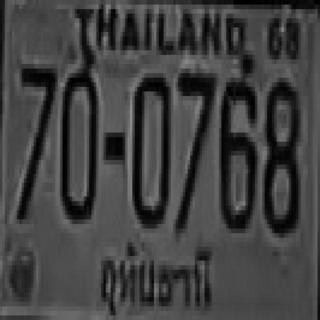N00: (130, 68, 168, 224), (60, 64, 96, 220)
N06: (219, 73, 255, 228)
N07: (173, 68, 214, 228), (17, 62, 55, 217)
N08: (262, 75, 298, 231)
P74: (94, 239, 218, 316)
